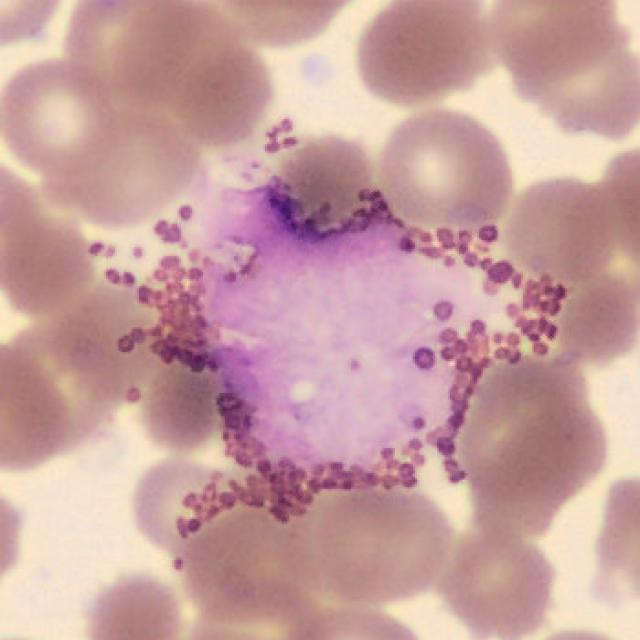Restos celulares: (82, 146, 569, 535)
